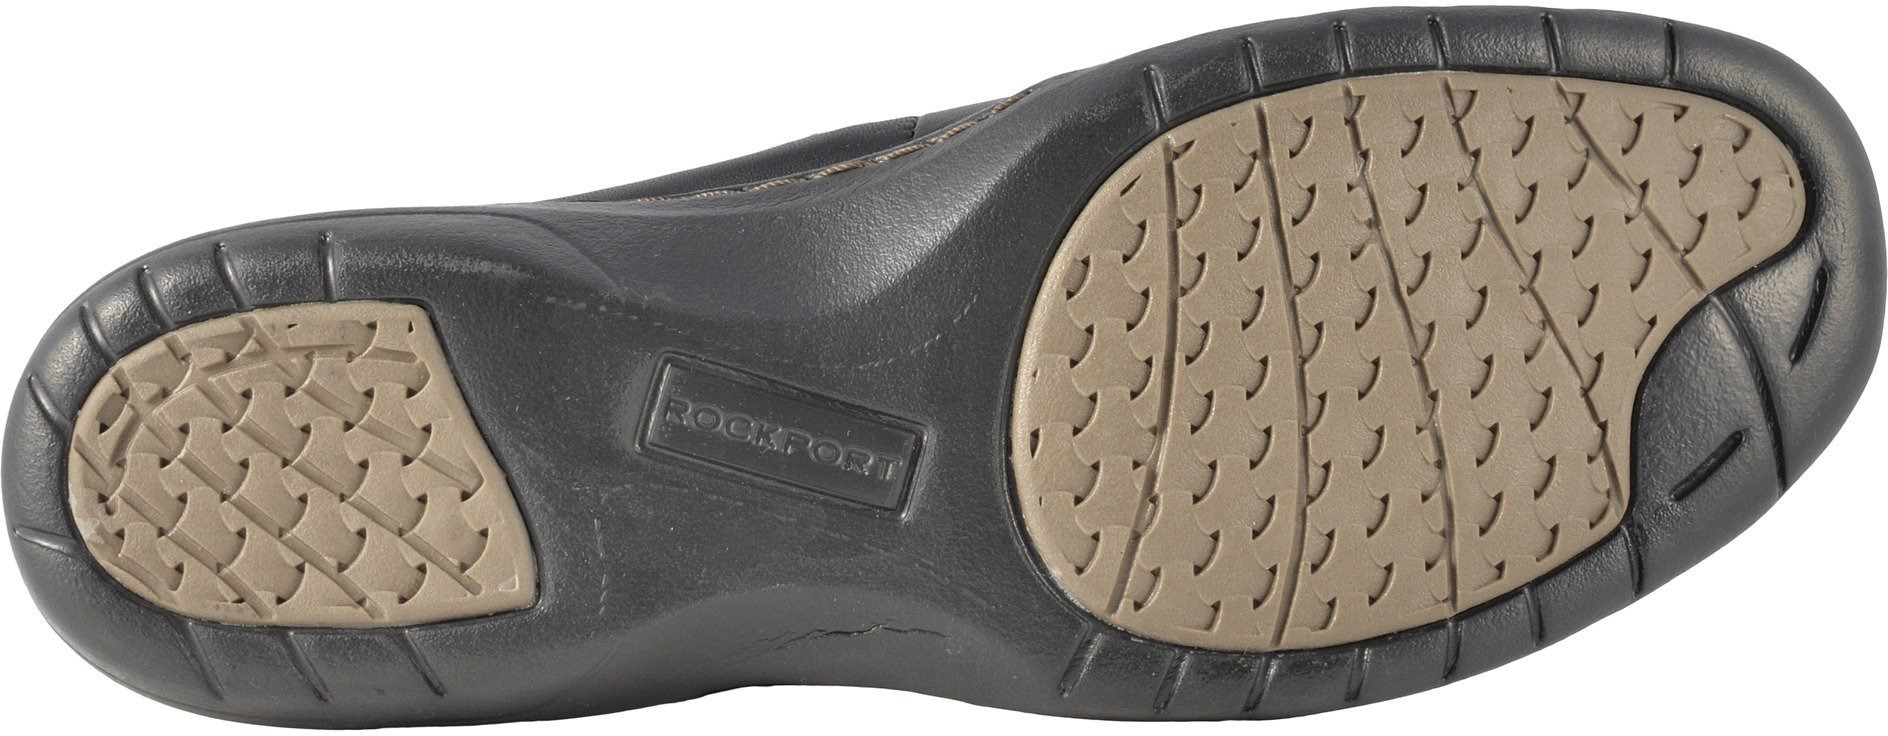star: (1176, 108, 1636, 530), (147, 335, 414, 599)
text: (785, 404, 916, 522), (654, 369, 784, 487)
